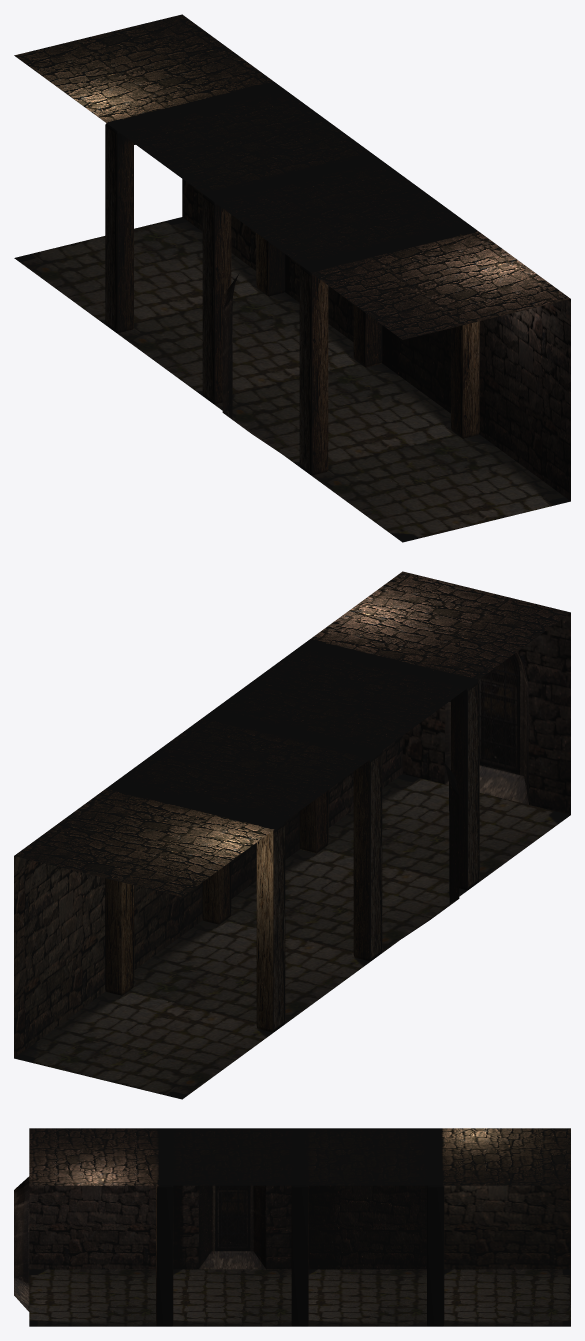
The model's file is corridor01.fbx.
3 renders of one model, top to bottom at view 1: azimuth 30°, elevation 25°; view 2: azimuth 150°, elevation 25°; view 3: azimuth 270°, elevation 25°, orthographic. The views are drawn at different scales.
Visible parts, largest first — view 1: castle_ceiling01, castle_floor01, castle_wall01, castle_beam01; view 2: castle_ceiling01, castle_floor01, castle_wall01, castle_beam01; view 3: castle_wall01, castle_ceiling01, castle_floor01, castle_beam01.
Boxes of the visible parts, left/top/right/bottom form: castle_ceiling01: left=14, top=14, right=570, bottom=339; castle_floor01: left=14, top=217, right=570, bottom=542; castle_wall01: left=182, top=179, right=570, bottom=500; castle_beam01: left=105, top=123, right=479, bottom=475; castle_ceiling01: left=14, top=571, right=570, bottom=896; castle_floor01: left=14, top=774, right=570, bottom=1099; castle_wall01: left=14, top=613, right=570, bottom=1057; castle_beam01: left=105, top=680, right=479, bottom=1032; castle_wall01: left=14, top=1176, right=570, bottom=1311; castle_ceiling01: left=29, top=1128, right=570, bottom=1185; castle_floor01: left=29, top=1269, right=570, bottom=1326; castle_beam01: left=156, top=1185, right=444, bottom=1326.
Bounding box in the file's own units: 223 × 230 × 823.
